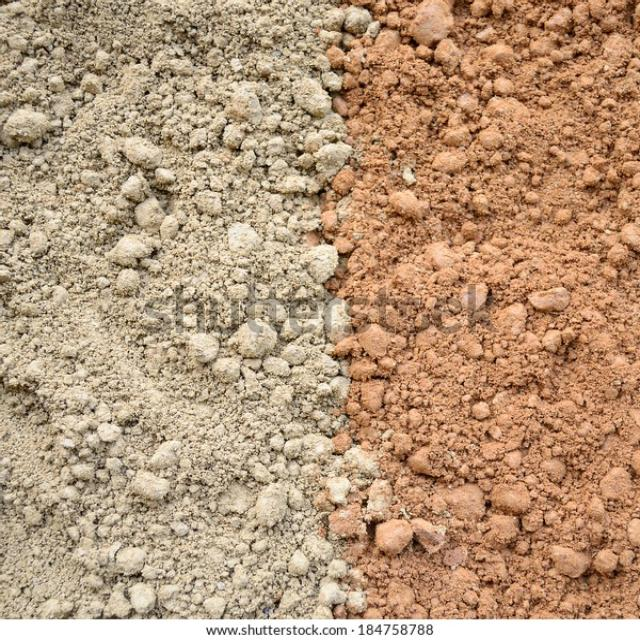Alluvial Soil: (22, 36, 284, 595)
Red Soil: (393, 38, 604, 576)
